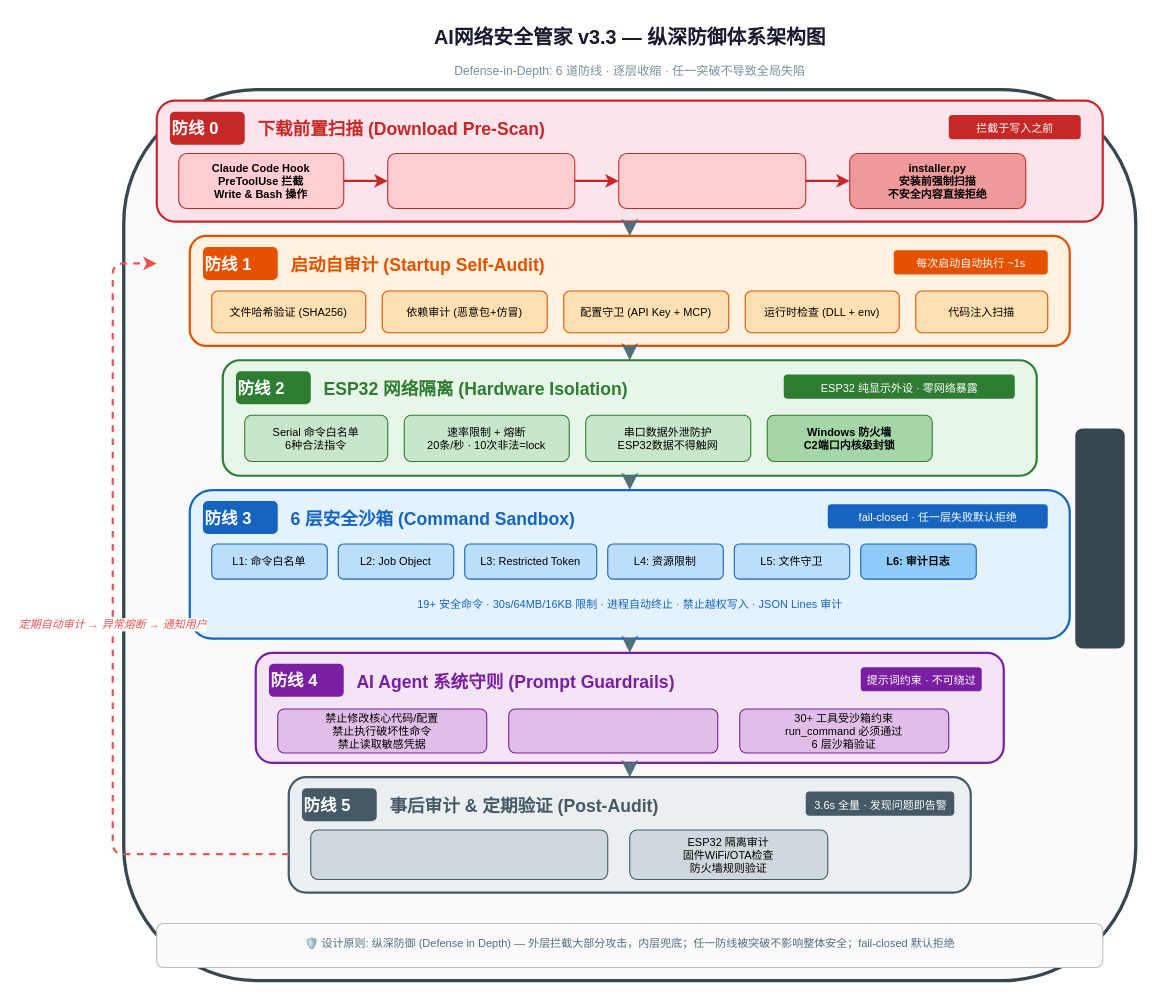
Some shapes in this 1174 by 1001 pixel diagram are drawn without their labels. Here are the shapes that lost their labels. From the top down, the centre of each, then its label:
the point at 481,180: download_scanner.py 10+ 检测模式库 隐藏Unicode·注入·混淆
the point at 712,180: 拦截: curl|bash 管道 typosquatting 仿冒 危险 flag (--unsafe等)
the point at 1099,538: 攻击面逐层收窄 →
the point at 613,730: Skill 注入限制 下载前自动 scan_download MCP 服务器手动审查
the point at 459,854: 完整 7 层自审计 (self_audit --full) 文件哈希 · 依赖 · 配置 · 运行时 代码注入 · 网络自查 · 沙箱测试
